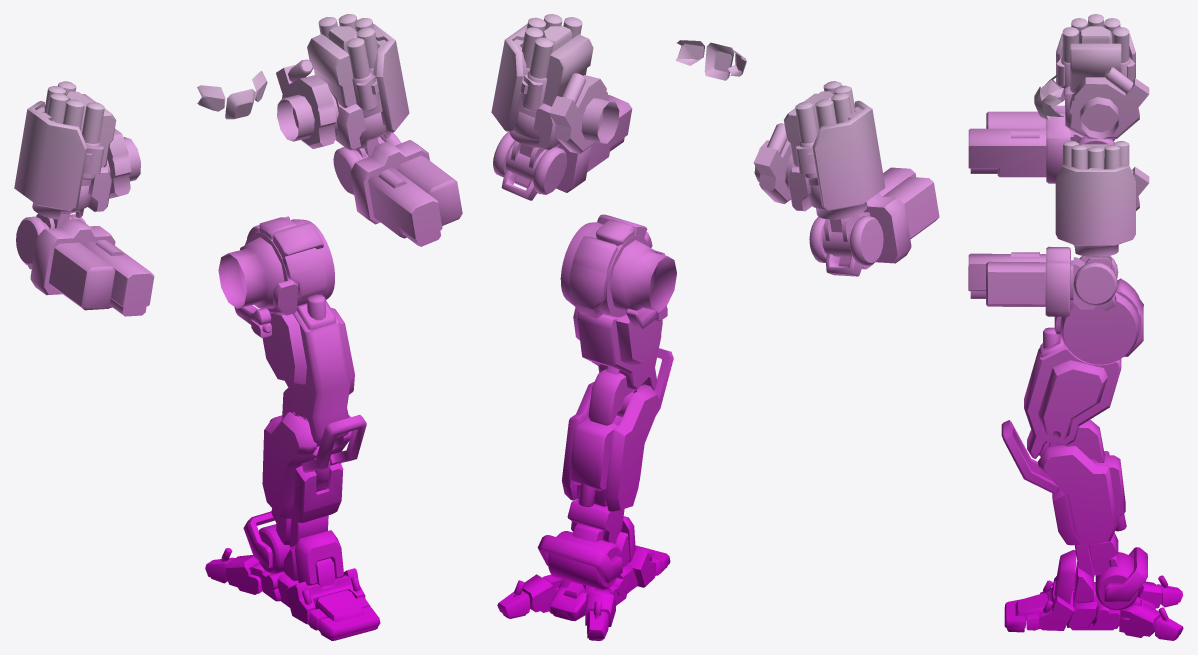
The model's file is chrPrfMech_firestarterBase-001(Clone).mesh0.refresh.fbx.
3 views of the same model, side by side, from view 1: azimuth 30°, elevation 25°; view 2: azimuth 150°, elevation 25°; view 3: azimuth 270°, elevation 25° (orthographic). The views are drawn at different scales.
Parts seen in each view (by area): view 1: mesh_combined_0; view 2: mesh_combined_0; view 3: mesh_combined_0.
Part boxes in pixels (x1,y1,x2,y2): mesh_combined_0: (14, 14, 462, 640); mesh_combined_0: (491, 14, 939, 640); mesh_combined_0: (968, 14, 1183, 640).
Size of the model in its own units: 11.04 by 15.16 by 5.9.
